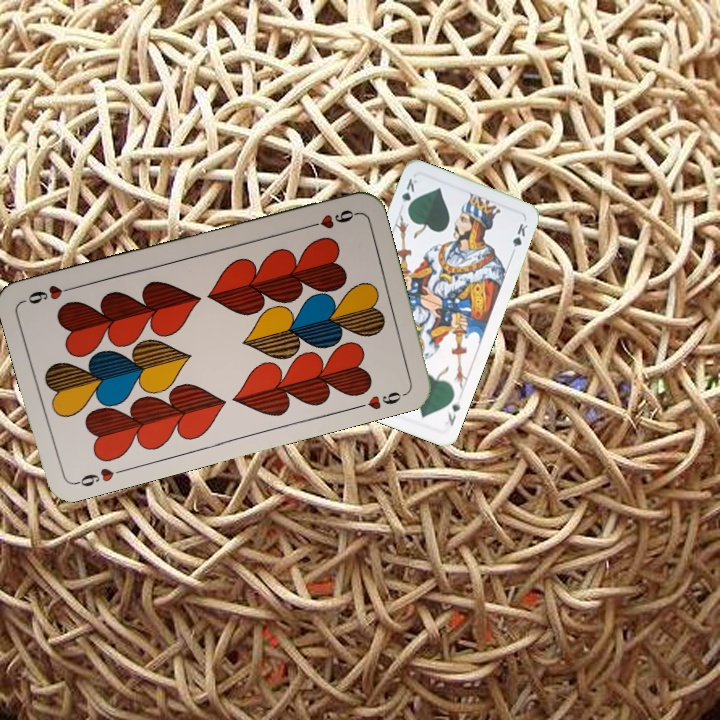GK: (398, 174, 420, 214), (443, 396, 463, 429)
H9: (301, 205, 359, 232), (70, 464, 128, 490)
